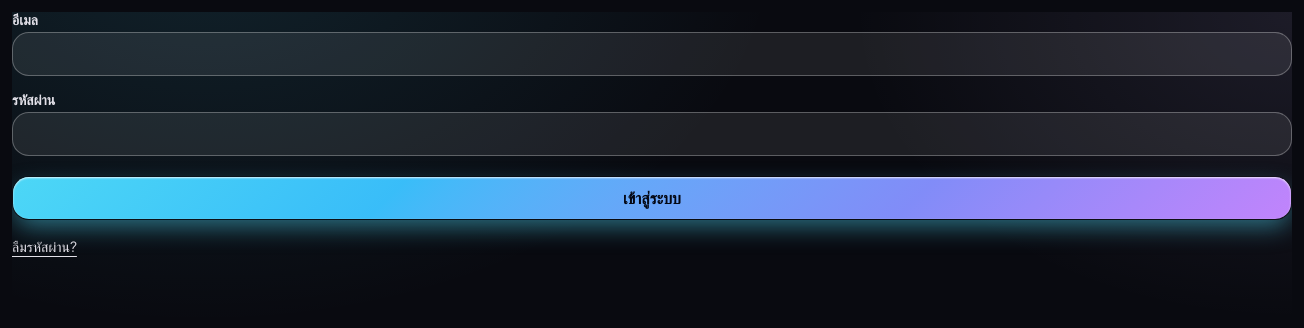
it: shows the Thai message for a refused sign-in
The image size is (1304, 328).
Type "nok@example.com" into the field labelled "อีเมล" at (652, 54), box [12,32,1292,76]
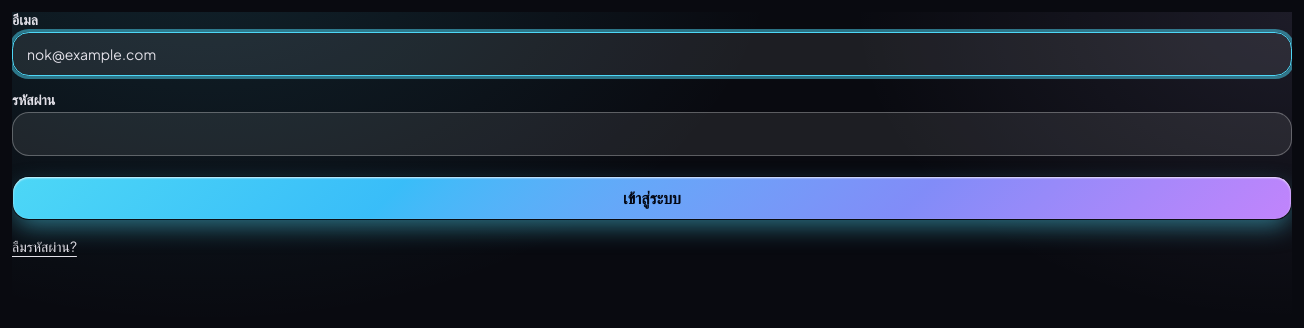
Type "wrong password" into the password field labelled "รหัสผ่าน" at (652, 134), box [12,112,1292,156]
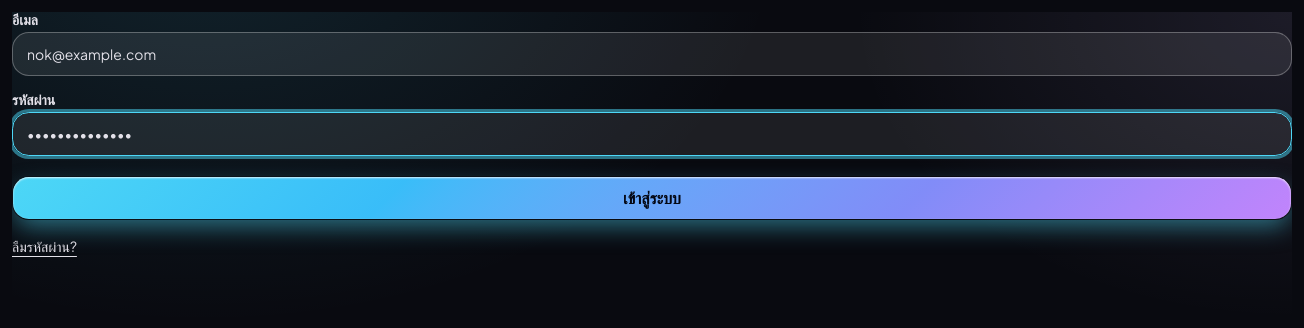
Click the button "เข้าสู่ระบบ" at (652, 198), box [12,176,1292,220]
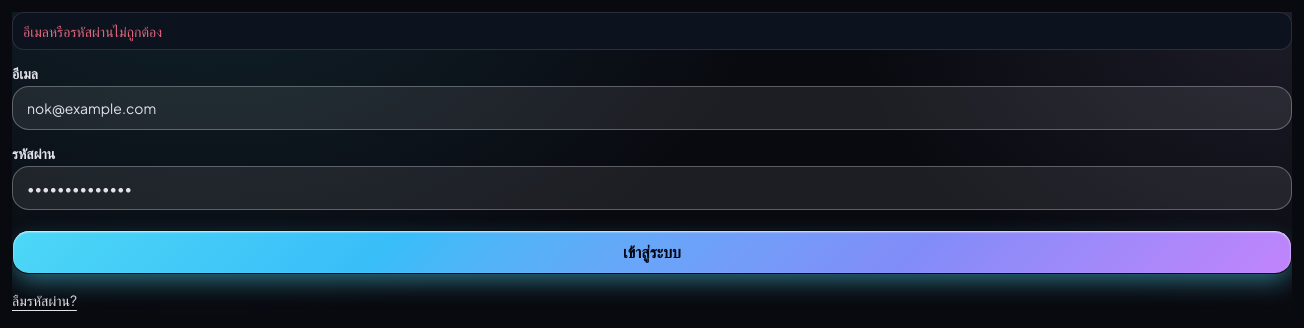
Expected: the message reads "อีเมลหรือรหัสผ่านไม่ถูกต้อง", [23,22,162,40]
